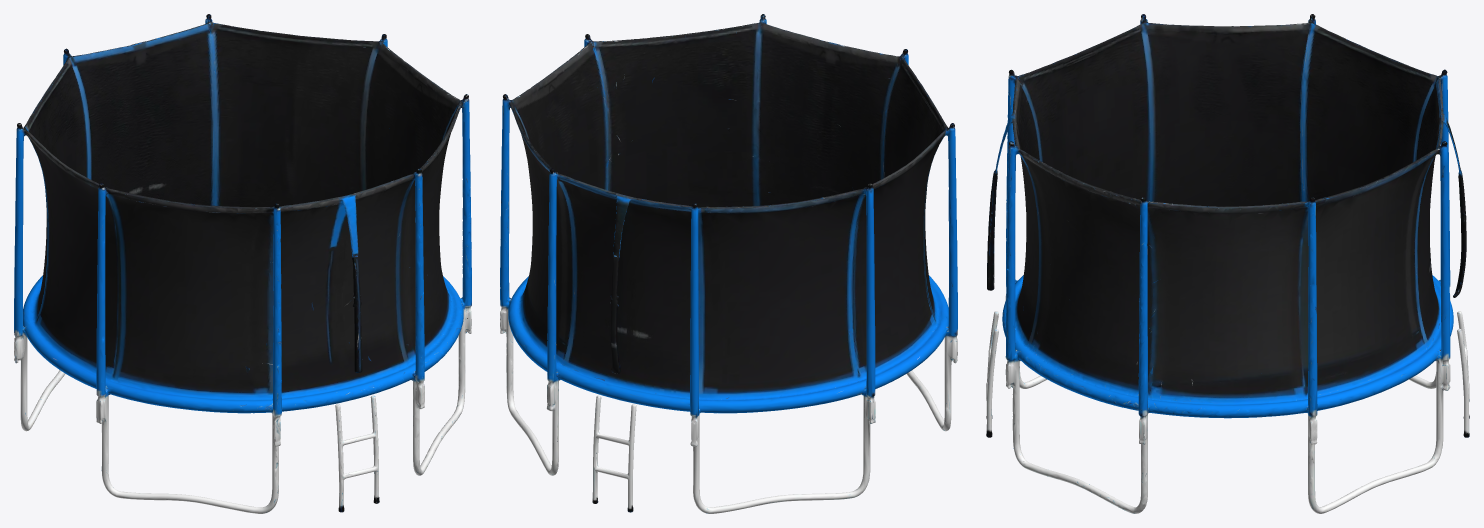
The model's file is skyring400.glb.
3 renders of one model, left to right at view 1: azimuth 30°, elevation 25°; view 2: azimuth 150°, elevation 25°; view 3: azimuth 270°, elevation 25°, orthographic. The views are drawn at different scales.
Visible parts, largest first — view 1: Mesh_0; view 2: Mesh_0; view 3: Mesh_0.
Boxes of the visible parts, x1,y1,x2,y2 form: Mesh_0: [14, 14, 471, 513]; Mesh_0: [500, 14, 957, 513]; Mesh_0: [986, 14, 1469, 513].
Size of the model in its own units: 1.78 by 1.41 by 1.91.
Materials: 1 (1 with a texture image).
